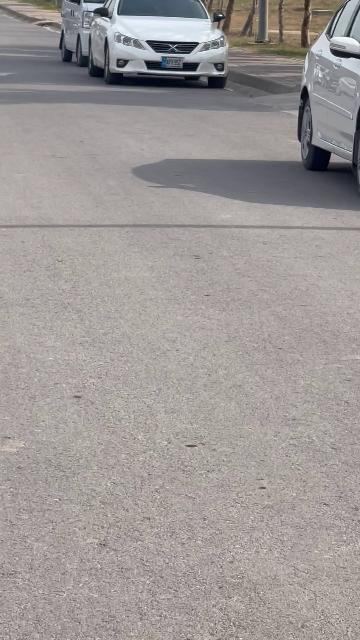plate: (162, 56, 183, 68)
